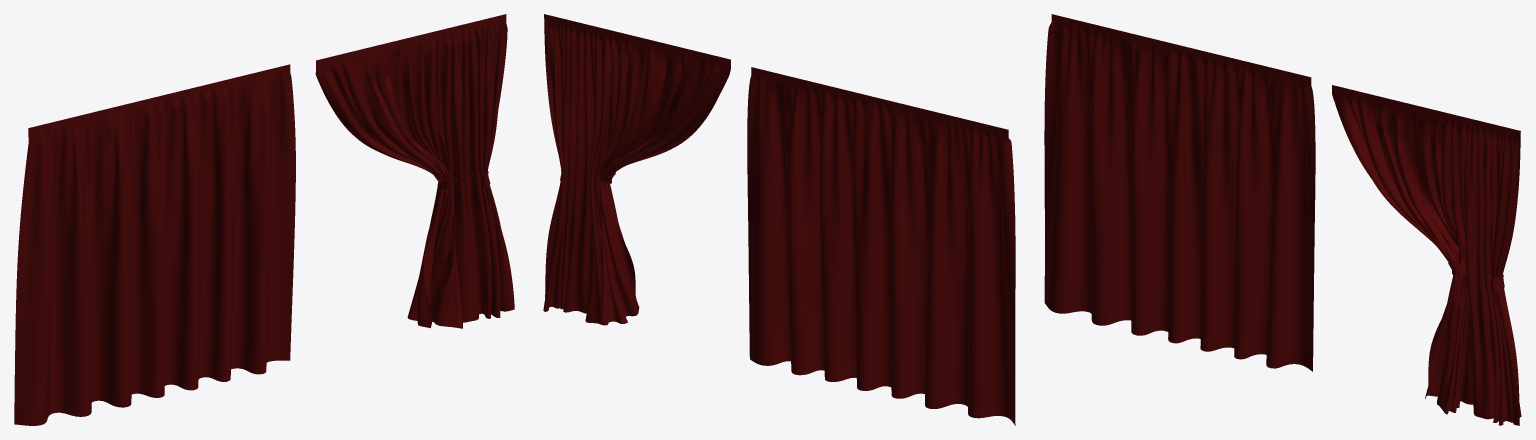
File: Curtain.fbx
The picture shows the model from 3 angles, left to right: view 1: azimuth 30°, elevation 25°; view 2: azimuth 150°, elevation 25°; view 3: azimuth 330°, elevation 25°; orthographic projection.
Visible parts, largest first — view 1: Сurtain, Сurtain tied; view 2: Сurtain, Сurtain tied; view 3: Сurtain, Сurtain tied.
Boxes of the visible parts, x1,y1,x2,y2 form: Сurtain: (14,64,295,425); Сurtain tied: (315,14,514,328); Сurtain: (747,67,1015,425); Сurtain tied: (543,14,730,325); Сurtain: (1044,14,1315,371); Сurtain tied: (1332,85,1521,425).
Size of the model in its own units: 172 by 100 by 19.19.
